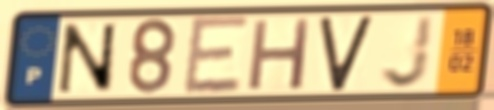8: (128, 16, 178, 98)
E: (180, 14, 252, 98)
H: (244, 15, 315, 94)
J: (378, 13, 437, 91)
N: (56, 22, 118, 96)
V: (316, 12, 377, 94)
